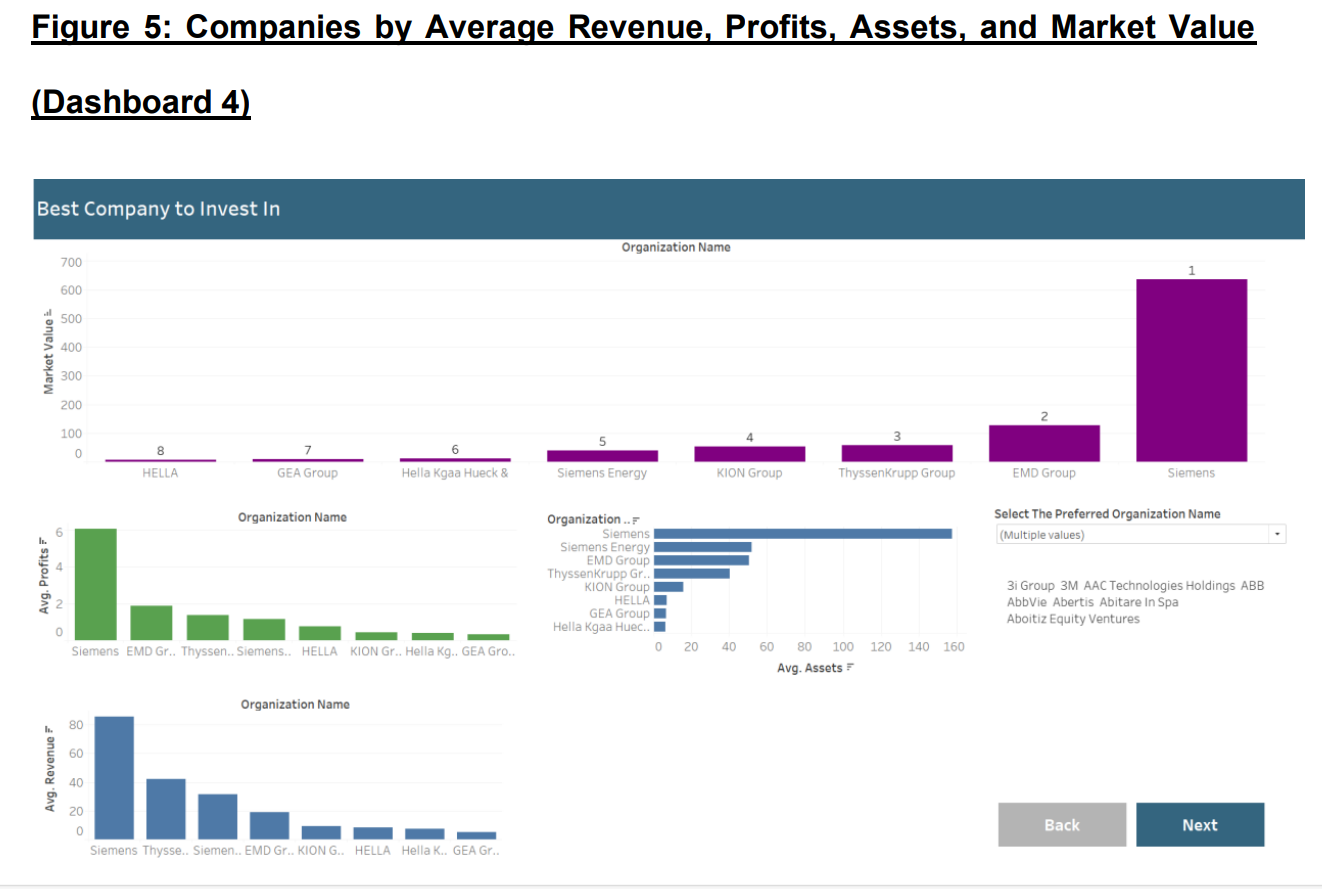

Layout of this report page (visuals, bound fields, positions):
{"tool":"tableau","page":{"name":"Companies","canvas":[1000,1000],"units":"permille","ordinal":0},"visuals":[{"type":"worksheet","title":"Market Value for Industries","mark":"Automatic","rows":["Market Value"],"cols":["Organization Name"],"box":[1.2,70.9,969.9,383.9]},{"type":"text","box":[8.7,97.8,976.3,872.9]},{"type":"worksheet","title":"Avg assets for preferred companies","mark":"Automatic","rows":["Organization Name"],"cols":["Assets"],"box":[403.1,468.2,333.1,511]},{"type":"filter","title":"Names of Chosen Companies","param":"[federated.0ac9r150mvou991alsuss1d6bpmn].[none:Organization Name:nk]","box":[756.4,474.3,230.7,75.8]},{"type":"worksheet","title":"Names of Chosen Companies","mark":"Automatic","box":[760.1,556.2,222.1,299.5]},{"type":"worksheet","title":"Average revenue for companies","mark":"Automatic","rows":["Revenue"],"cols":["Organization Name"],"box":[1.8,735.9,369.9,267.7]},{"type":"dashboard-object","box":[759.5,908.3,100.6,63.6]},{"type":"dashboard-object","box":[867.5,908.3,100.6,63.6]},{"type":"dashboard-object","box":[450.1,927.9,124.7,45.2]}]}

Visuals, with their boxes on the dashboard's canvas, which has no fixed pixel size, in thousandths of its width and height (x1, y1, x2, y2). These are canvas units, not pixel positions in the 1322x889 screenshot, which may show the page scaled, cropped or inside an application window:
"Market Value for Industries" worksheet: detection(1, 71, 971, 455)
text: detection(9, 98, 985, 971)
"Avg assets for preferred companies" worksheet: detection(403, 468, 736, 979)
"Names of Chosen Companies" filter: detection(756, 474, 987, 550)
"Names of Chosen Companies" worksheet: detection(760, 556, 982, 856)
"Average revenue for companies" worksheet: detection(2, 736, 372, 1004)
dashboard-object: detection(760, 908, 860, 972)
dashboard-object: detection(868, 908, 968, 972)
dashboard-object: detection(450, 928, 575, 973)
